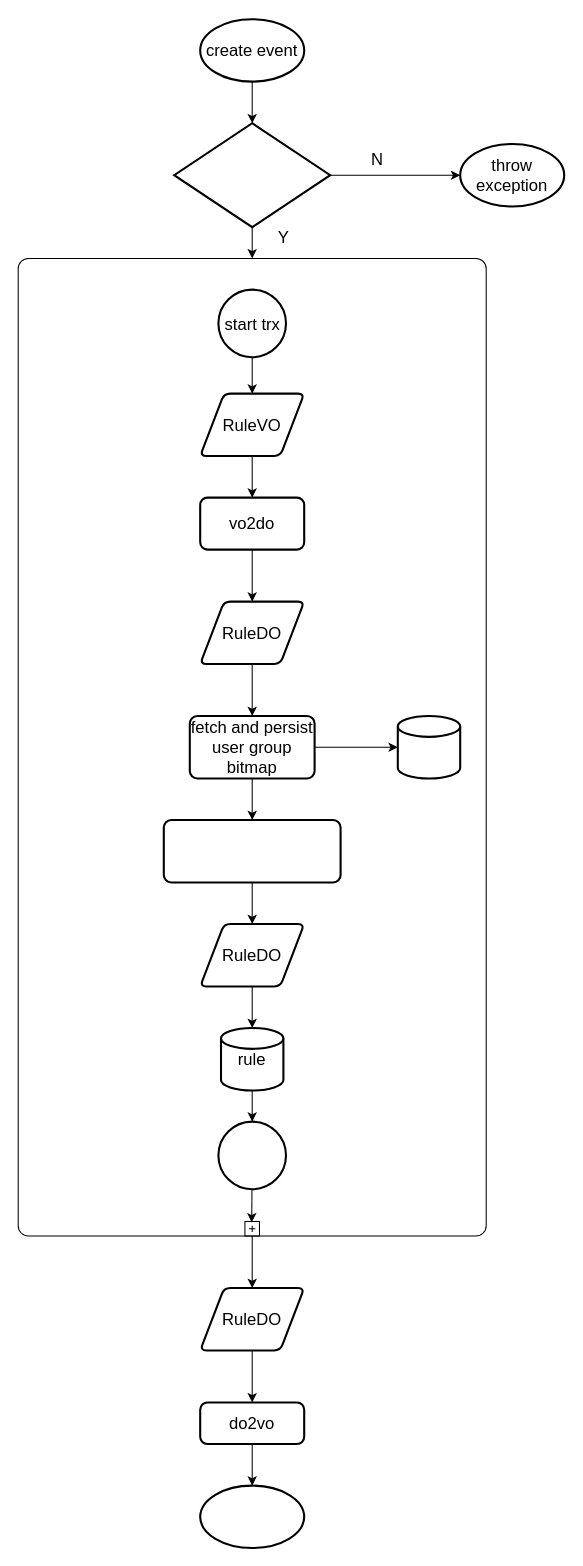
Some shapes in this 583 by 1566 pixel diagram are drawn without their labels. The centre of each missing label's shape, as x and y in pixels:
"data validate" belongs at point (252, 175).
"end" belongs at point (252, 1155).
"generate groovy text" belongs at point (251, 850).
"redis" belongs at point (428, 746).
"Start" belongs at point (252, 1516).
